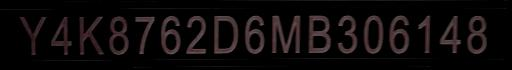letter: (268, 15, 304, 55), (14, 12, 48, 54), (74, 15, 104, 55), (463, 12, 491, 54), (304, 13, 332, 55), (386, 13, 414, 55), (210, 13, 238, 53), (239, 14, 267, 54), (48, 12, 74, 54), (130, 13, 156, 53), (184, 12, 208, 54), (334, 13, 358, 55), (438, 13, 462, 55), (158, 13, 182, 53), (360, 14, 384, 54), (414, 14, 436, 54), (106, 16, 130, 52)
